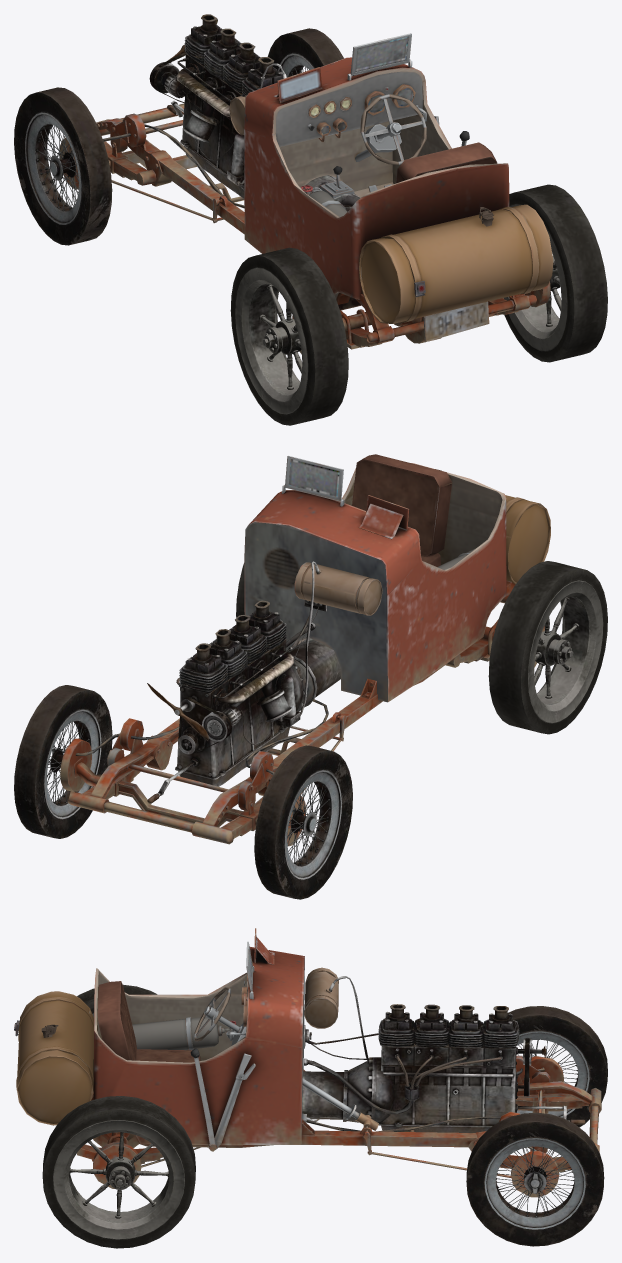
File: vintO.glb
The picture shows the model from 3 angles, top to bottom: view 1: azimuth 30°, elevation 25°; view 2: azimuth 150°, elevation 25°; view 3: azimuth 270°, elevation 25°; orthographic projection. The views are drawn at different scales.
Visible parts, largest first — view 1: Body, rear left wheel, front left wheel, engine, rear right wheel, front right wheel; view 2: Body, engine, rear left wheel, front left wheel, front right wheel, engine part, engine part.002; view 3: Body, engine, rear right wheel, front right wheel, front left wheel, rear left wheel.
Boxes of the visible parts, x1,y1,x2,y2 form: Body: [60, 33, 553, 353]; rear left wheel: [230, 247, 348, 425]; front left wheel: [14, 87, 112, 245]; engine: [151, 14, 360, 211]; rear right wheel: [504, 184, 607, 362]; front right wheel: [267, 28, 343, 77]; Body: [60, 454, 550, 846]; engine: [147, 561, 340, 803]; rear left wheel: [488, 561, 607, 734]; front left wheel: [254, 745, 352, 899]; front right wheel: [14, 685, 112, 838]; engine part: [202, 711, 231, 741]; engine part.002: [147, 683, 209, 740]; Body: [14, 928, 601, 1197]; engine: [302, 976, 585, 1132]; rear right wheel: [42, 1096, 195, 1248]; front right wheel: [466, 1112, 604, 1246]; front left wheel: [507, 1006, 607, 1127]; rear left wheel: [77, 984, 157, 1017].
Size of the model in its own units: 1.8 by 1.57 by 3.41.
Materials: 4 (4 with a texture image).
